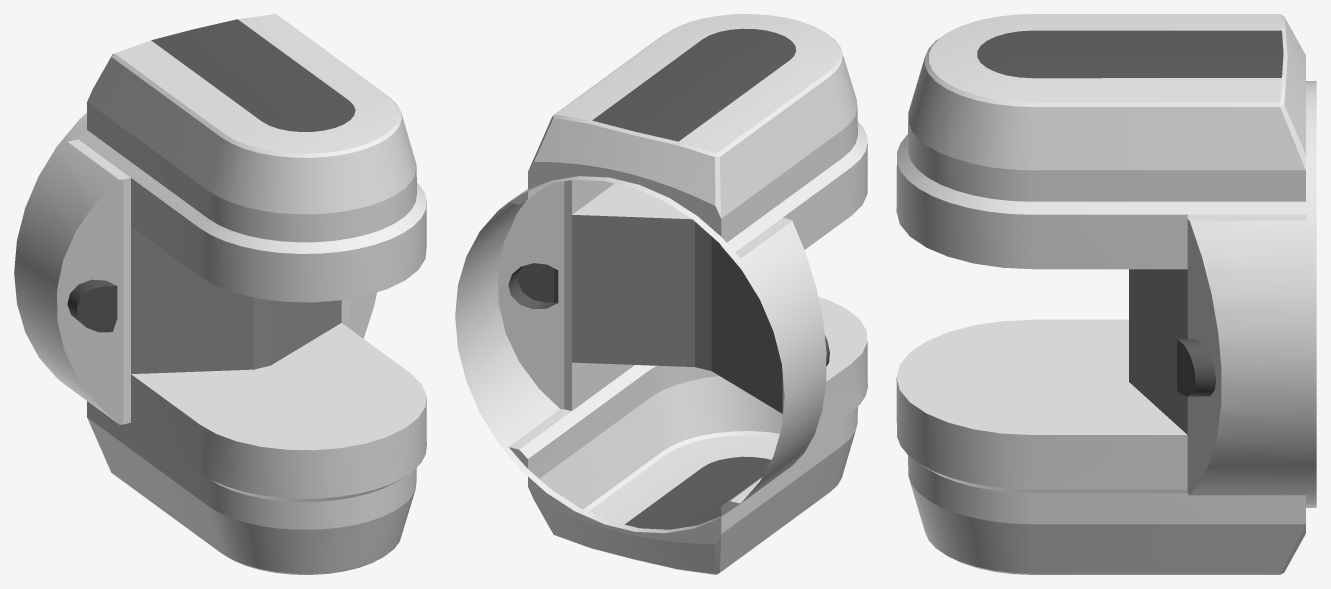
File: wam1.dae
3 renders of one model, left to right at view 1: azimuth 30°, elevation 25°; view 2: azimuth 150°, elevation 25°; view 3: azimuth 270°, elevation 25°, orthographic. The views are drawn at different scales.
Visible parts, largest first — view 1: wamShoulderLink1; view 2: wamShoulderLink1; view 3: wamShoulderLink1.
Boxes of the visible parts, <box> form: wamShoulderLink1: <box>14,14,426,574</box>; wamShoulderLink1: <box>455,14,867,574</box>; wamShoulderLink1: <box>896,14,1316,574</box>.
Size of the model in its own units: 0.28 by 0.3476 by 0.2755.
Materials: 1 (1 with a texture image).
